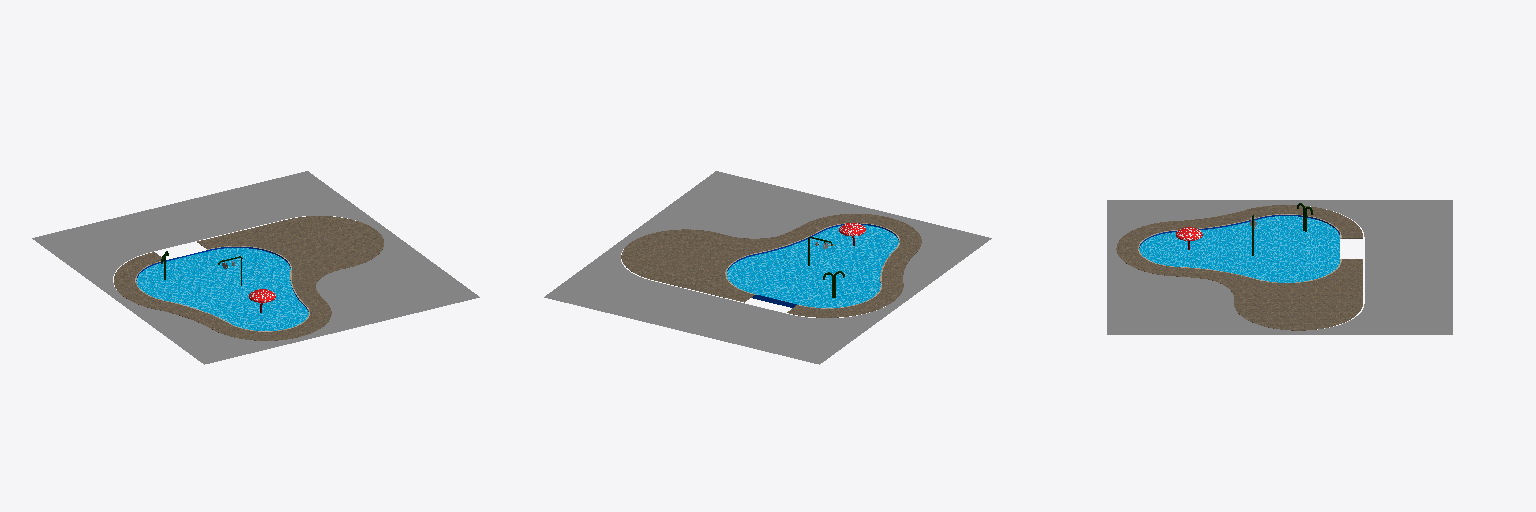
3 views of the same model, side by side, from view 1: azimuth 30°, elevation 25°; view 2: azimuth 150°, elevation 25°; view 3: azimuth 270°, elevation 25° (orthographic).
Visible parts, largest first — view 1: Rectangle007, Shape004, Shape013; view 2: Rectangle007, Shape004, Shape013; view 3: Rectangle007, Shape004, Shape013.
Part boxes in pixels (x1,y1,x2,y2): Rectangle007: (32, 171, 479, 364); Shape004: (114, 216, 383, 340); Shape013: (137, 248, 308, 330); Rectangle007: (544, 171, 991, 364); Shape004: (621, 214, 921, 317); Shape013: (727, 225, 898, 307); Rectangle007: (1107, 200, 1452, 334); Shape004: (1116, 205, 1362, 330); Shape013: (1139, 216, 1339, 282).
Size of the model in its own units: 68.4 by 7.91 by 74.13.
Materials: 13 (5 with a texture image).